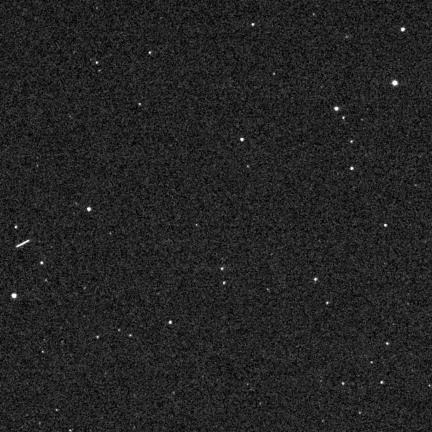blob: (11, 293, 17, 299), (392, 81, 398, 86), (223, 281, 227, 286), (326, 301, 330, 306), (334, 107, 339, 111), (96, 336, 100, 340), (169, 321, 173, 325), (401, 27, 405, 31), (221, 267, 225, 271), (386, 342, 390, 346), (129, 334, 133, 338), (384, 224, 388, 228), (87, 207, 91, 211), (342, 382, 346, 386), (15, 225, 18, 230), (314, 278, 318, 281), (149, 51, 152, 55), (241, 138, 244, 141), (273, 73, 276, 76), (381, 381, 384, 384), (350, 140, 353, 143), (371, 361, 374, 364), (138, 103, 141, 106), (41, 262, 44, 265), (252, 23, 254, 26), (351, 167, 353, 170)
